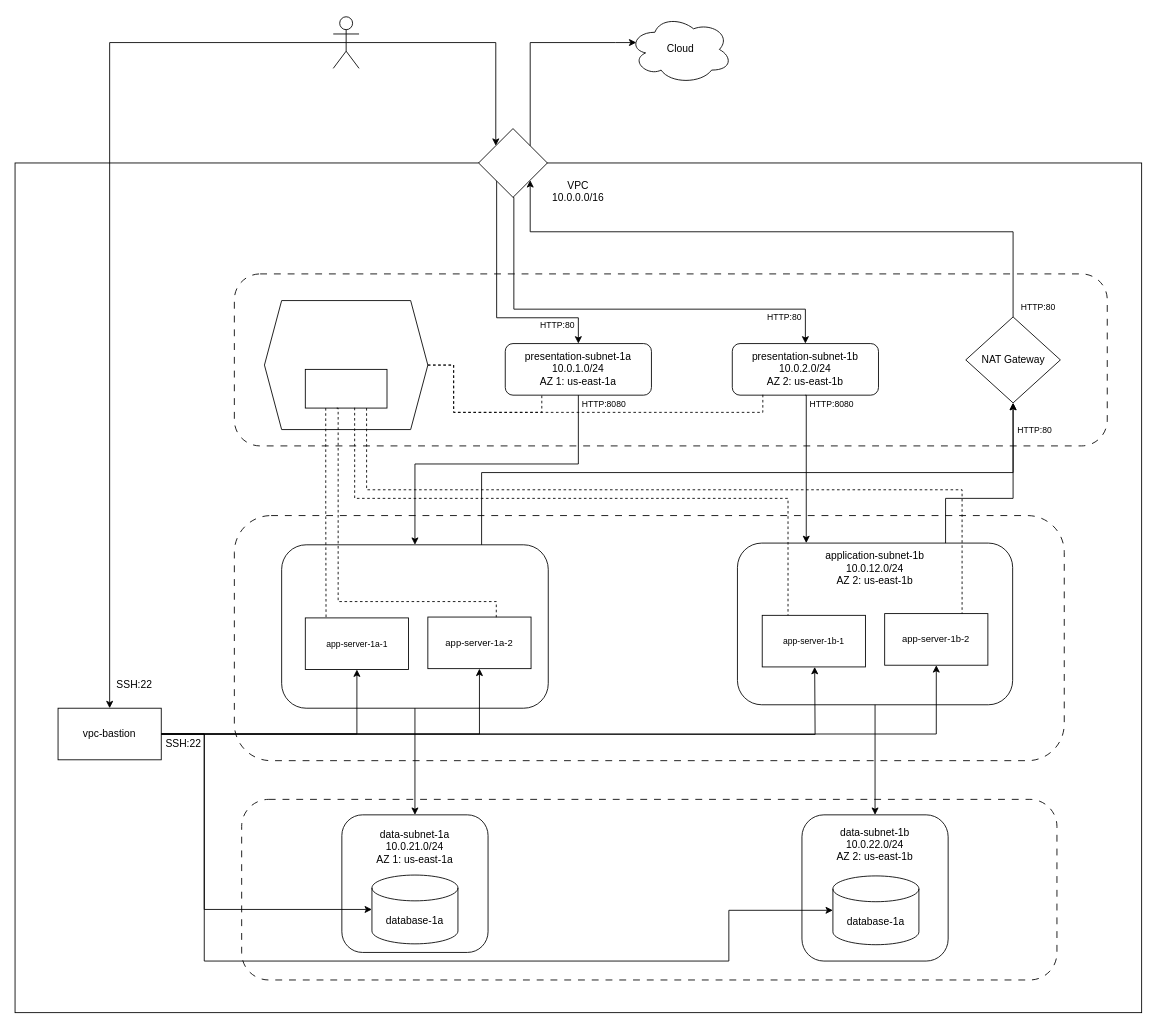
Image size: 1157x1028. Some labels were removed from this diagram. The box of each missing label's shape, as (x1, y1, x2, y2) in pixels:
App Subnet: (233, 515, 1064, 761)
application-subnet-1a 10.0.11.0/24 AZ 1: us-east-1a: (281, 544, 548, 708)
Database Subnet: (241, 799, 1057, 980)
IGW: (478, 128, 547, 197)
Presentation (Public): (233, 273, 1107, 446)
User: (332, 16, 359, 68)
web-alb: (264, 300, 428, 430)
web-server-tg: (304, 369, 387, 408)
